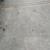others: (1, 1, 49, 8)
